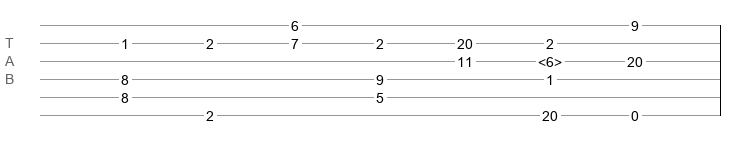0: (631, 108, 639, 118)
1: (121, 36, 129, 46), (546, 72, 554, 82)
11: (457, 54, 473, 64)
2: (206, 108, 214, 118), (206, 36, 214, 46), (376, 36, 384, 46), (546, 36, 554, 46)
20: (457, 36, 473, 46), (542, 108, 558, 118), (627, 54, 643, 64)
5: (376, 90, 384, 100)
6: (291, 18, 299, 28)
7: (291, 36, 299, 46)
8: (121, 90, 129, 100), (121, 72, 129, 82)
9: (376, 72, 384, 82), (631, 18, 639, 28)
harmonic: (538, 54, 562, 64)
